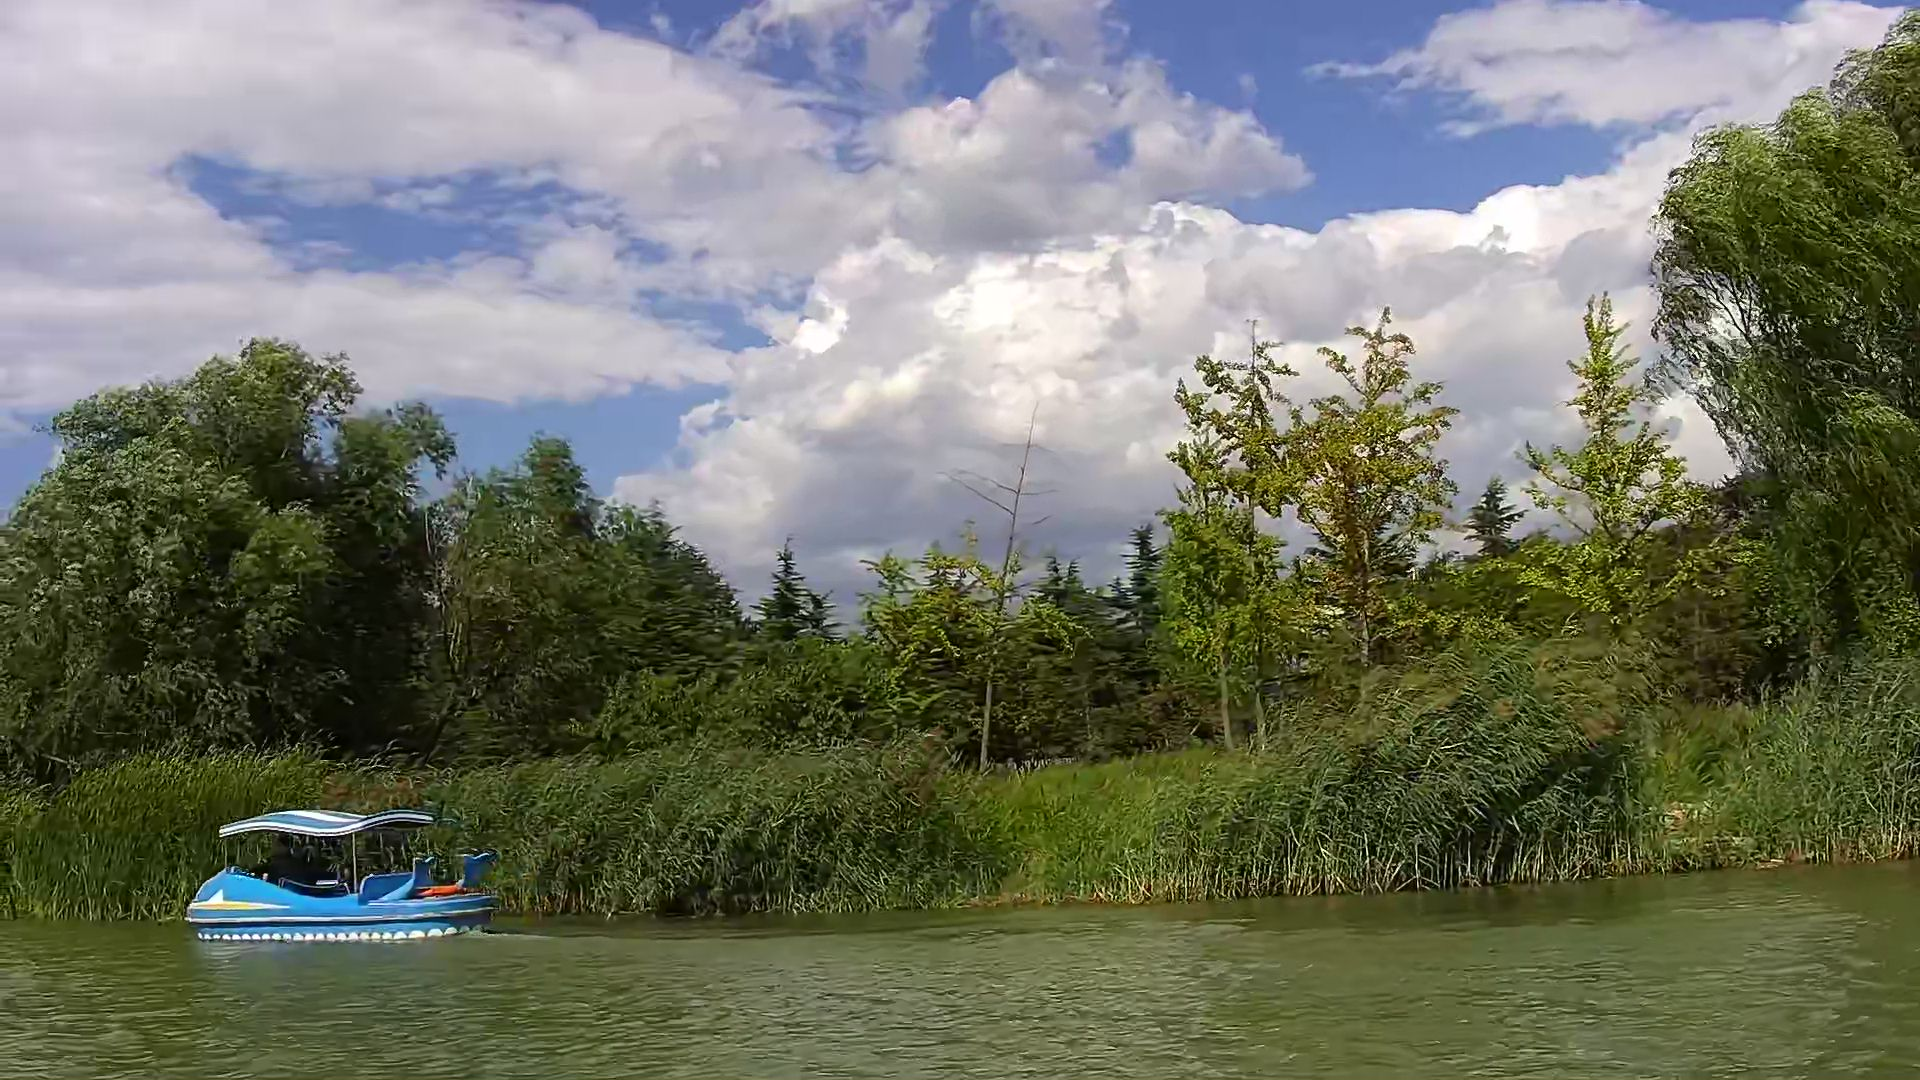boat: (189, 811, 491, 945)
